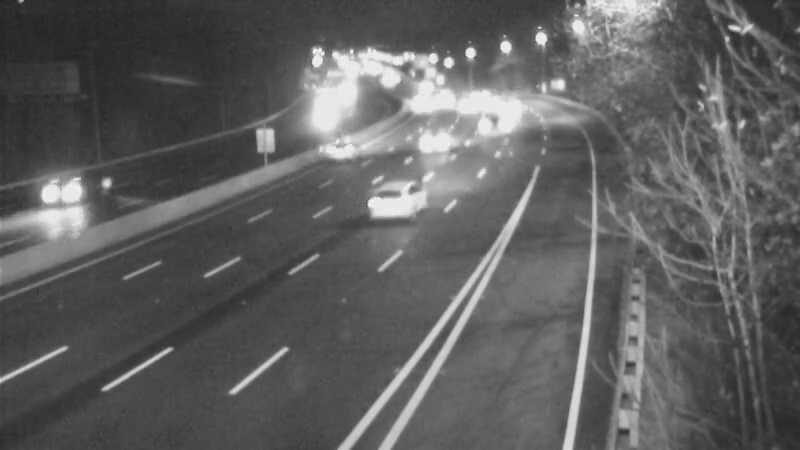vehicle: (347, 167, 427, 247), (19, 146, 99, 226), (451, 68, 501, 118), (438, 85, 488, 135), (481, 85, 531, 135), (473, 99, 523, 149), (408, 117, 458, 167), (320, 125, 370, 175)
